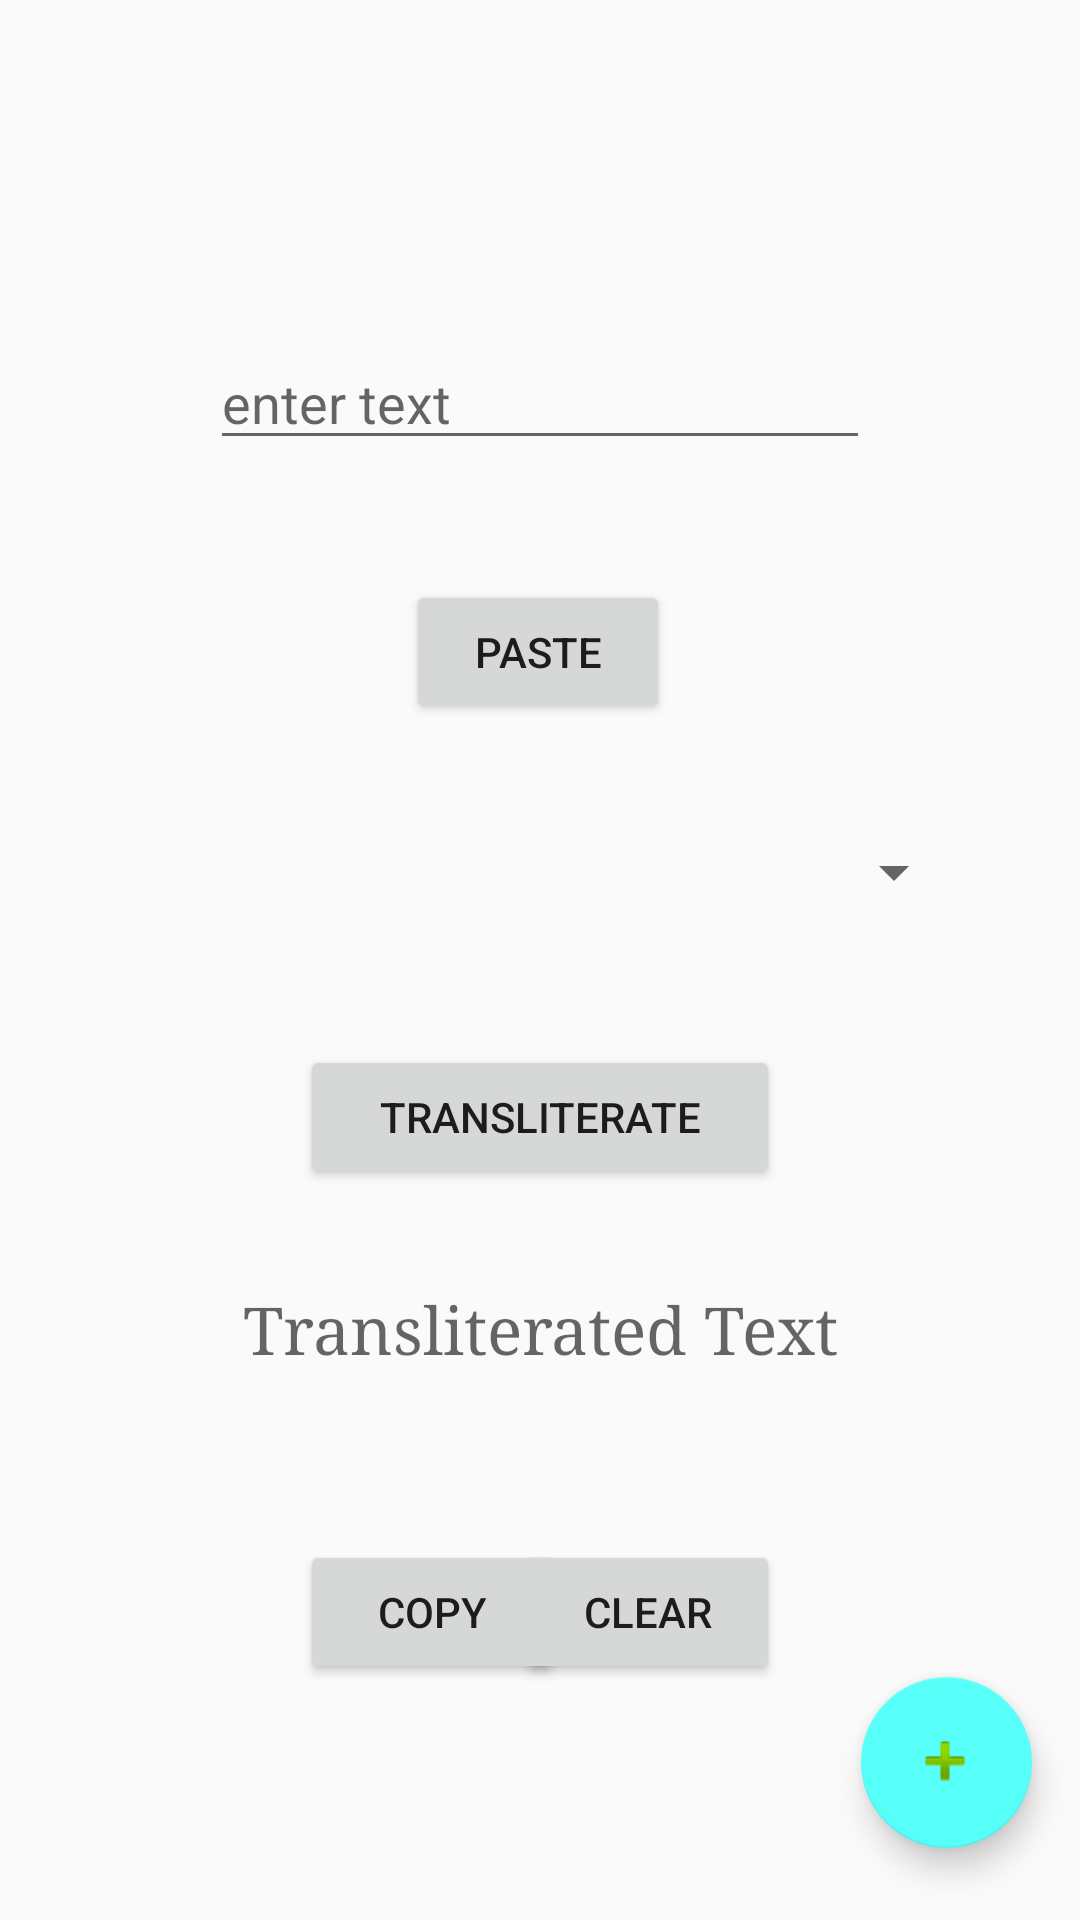

Icons on this 1080 x 1920 Android screen, each with its box as (x1, y1, x2, y2):
add: (861, 1677, 1032, 1848)
